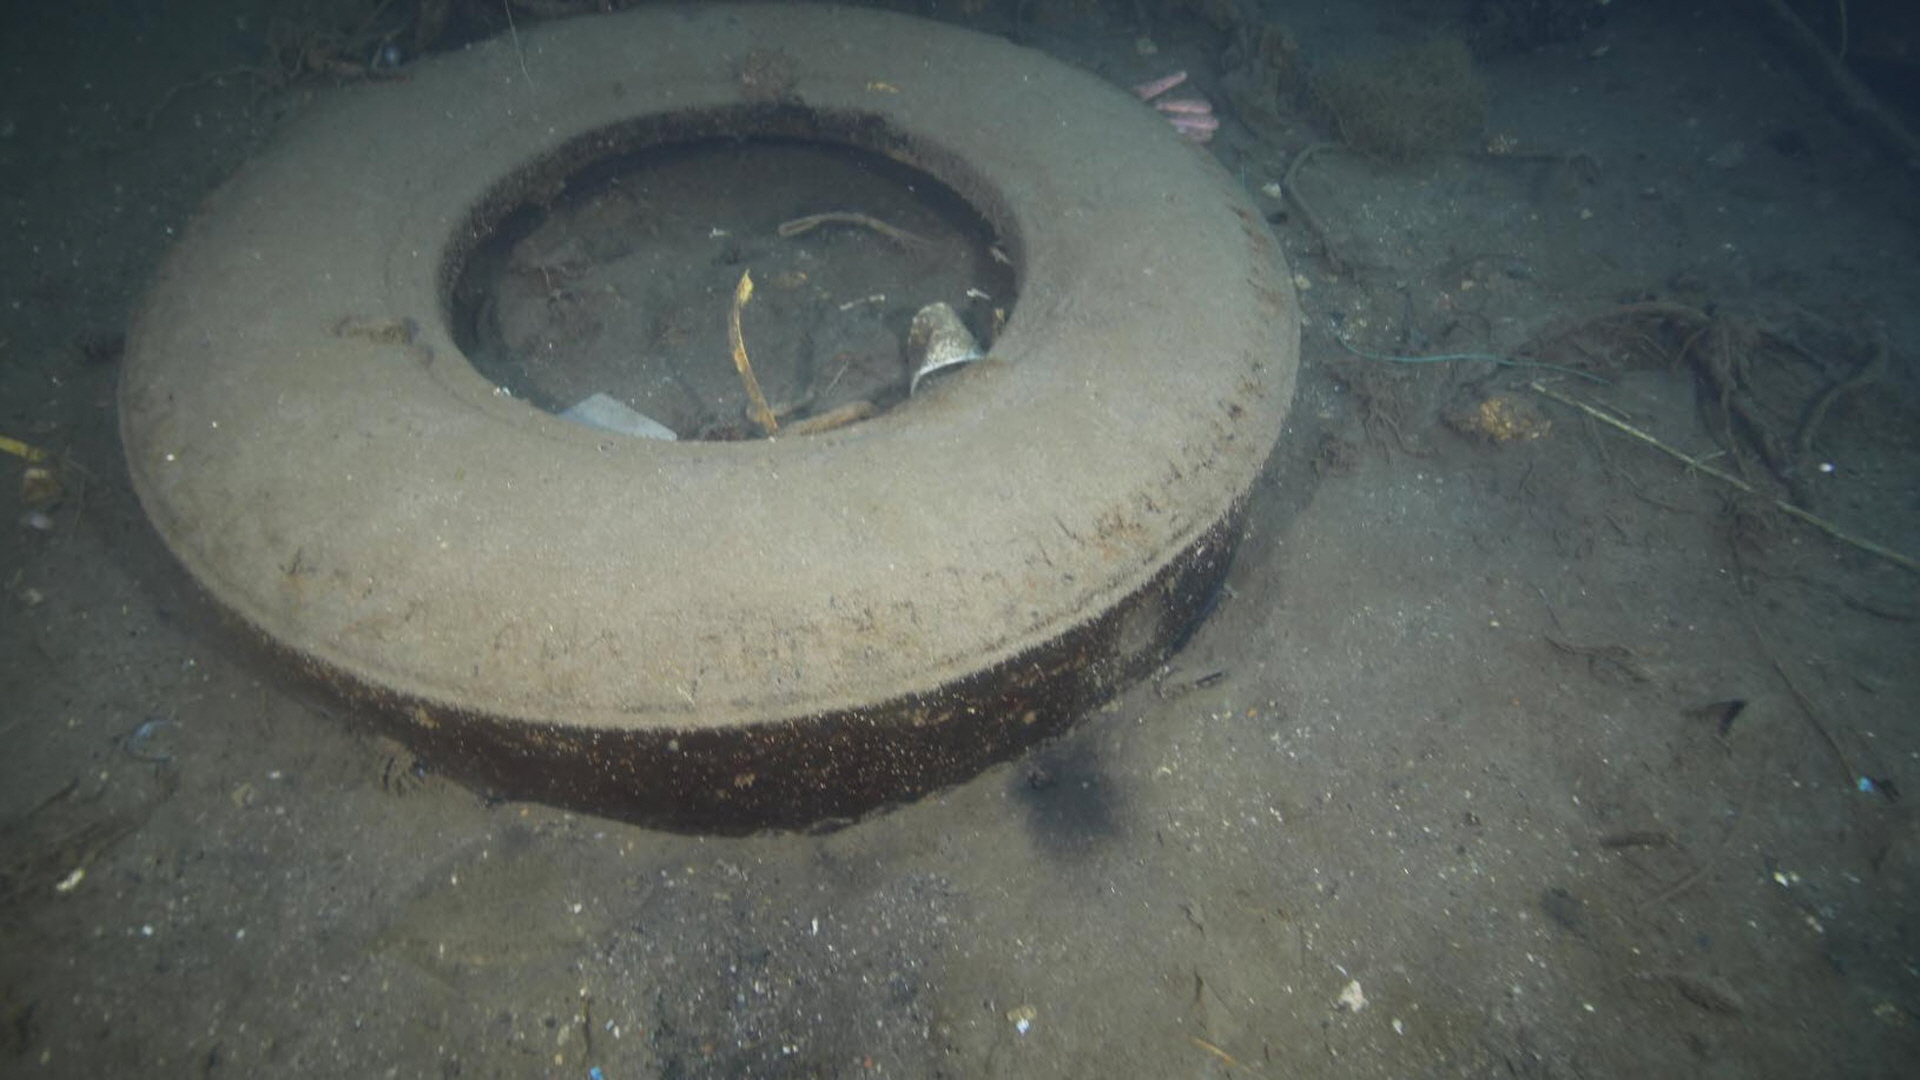tire: (112, 0, 1305, 827)
